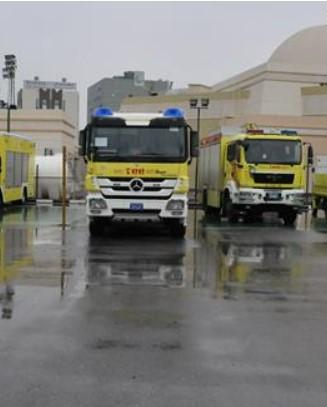firetruck_off: (78, 104, 201, 236), (204, 124, 316, 233)
